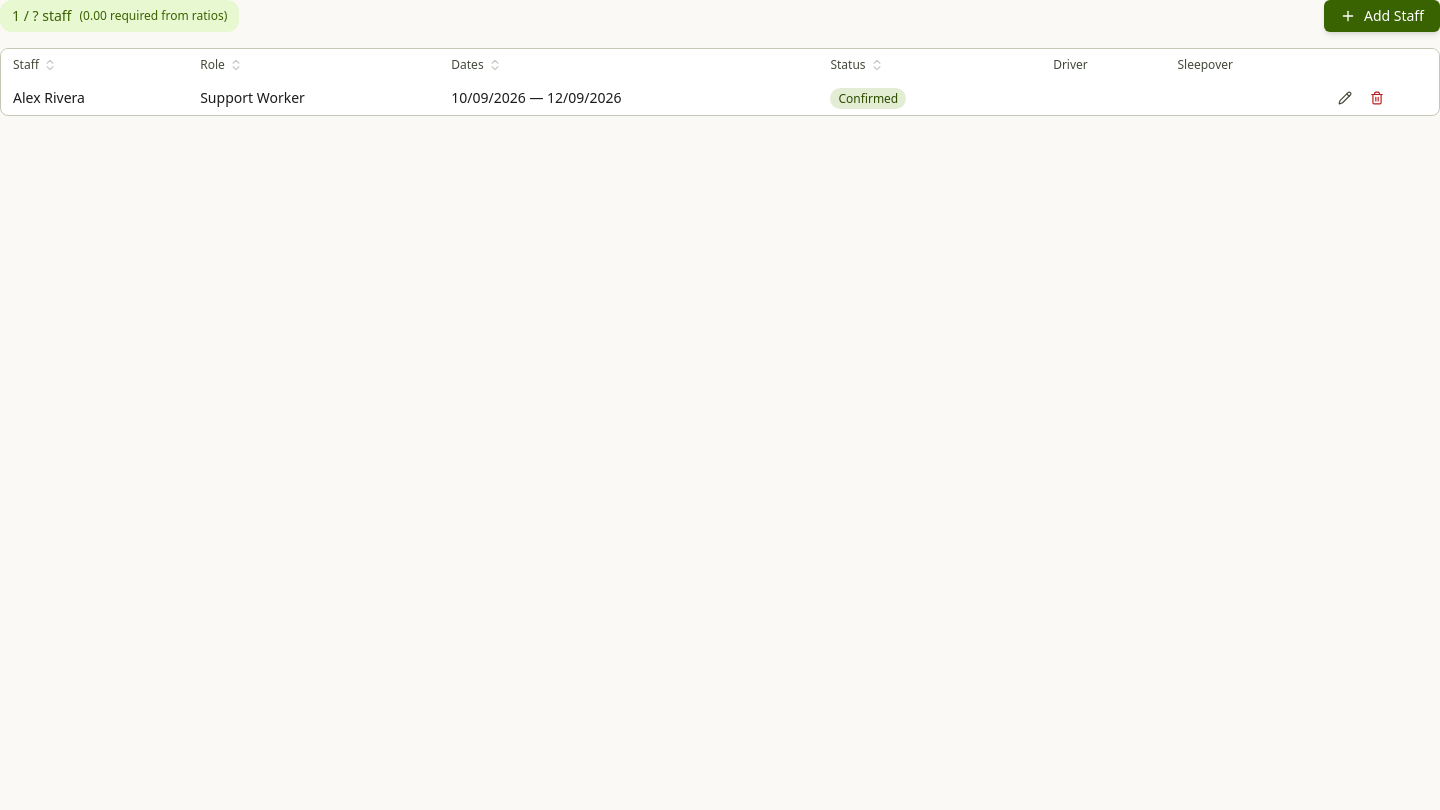
Scenario: StaffTab — edit modal live conflict gate (trip-side parity) › re-runs the dry-run check when Assignment Start/End are edited
Click the button titled "Edit assignment" at point(1345, 98), box [1333,86,1357,110]
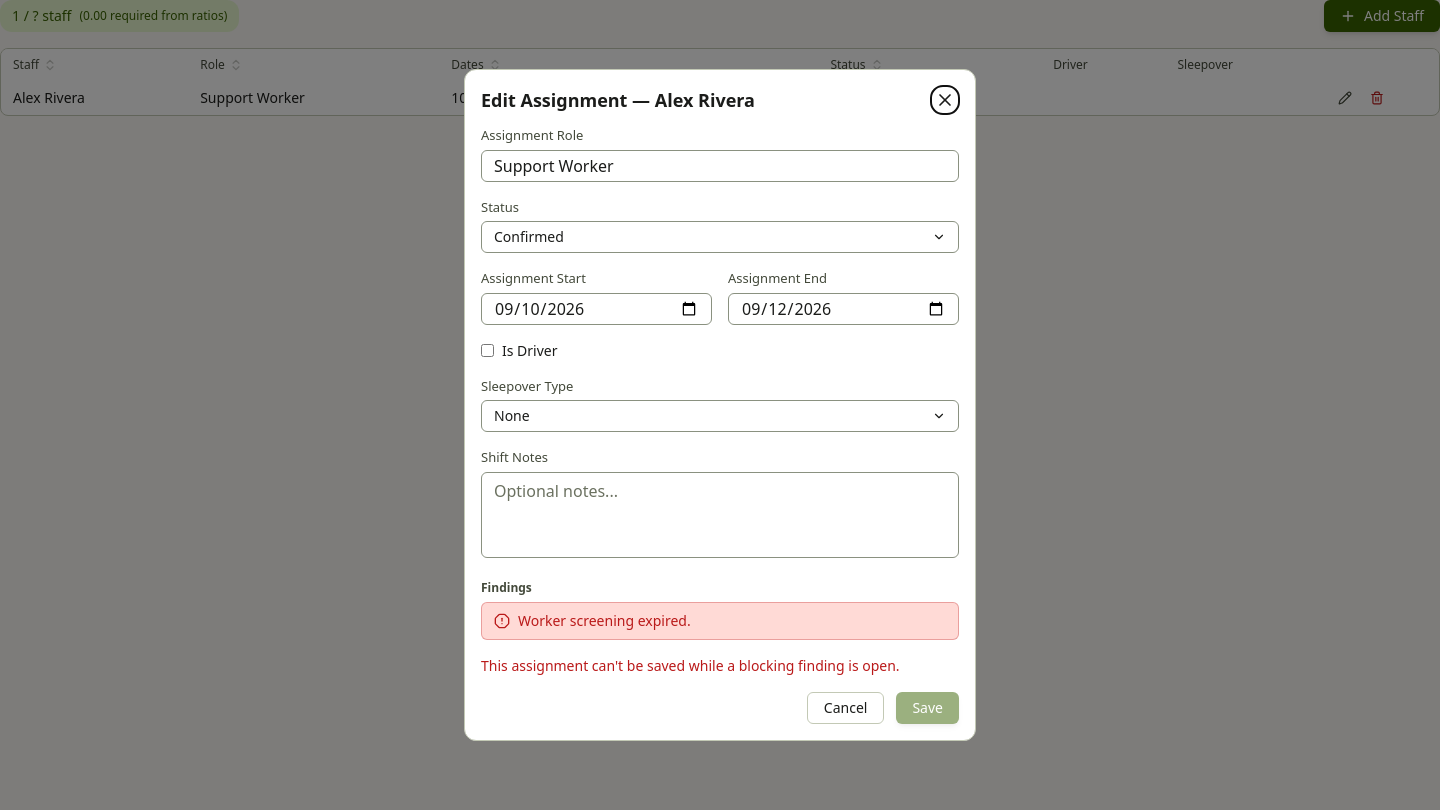
Now the text "Worker screening expired." is shown, box [518,611,691,631]
Now the button "Save" is disabled, box [896,692,959,724]
Type "2026-09-15" into the date field showing "2026-09-10" at point(596, 309), box [481,293,712,325]
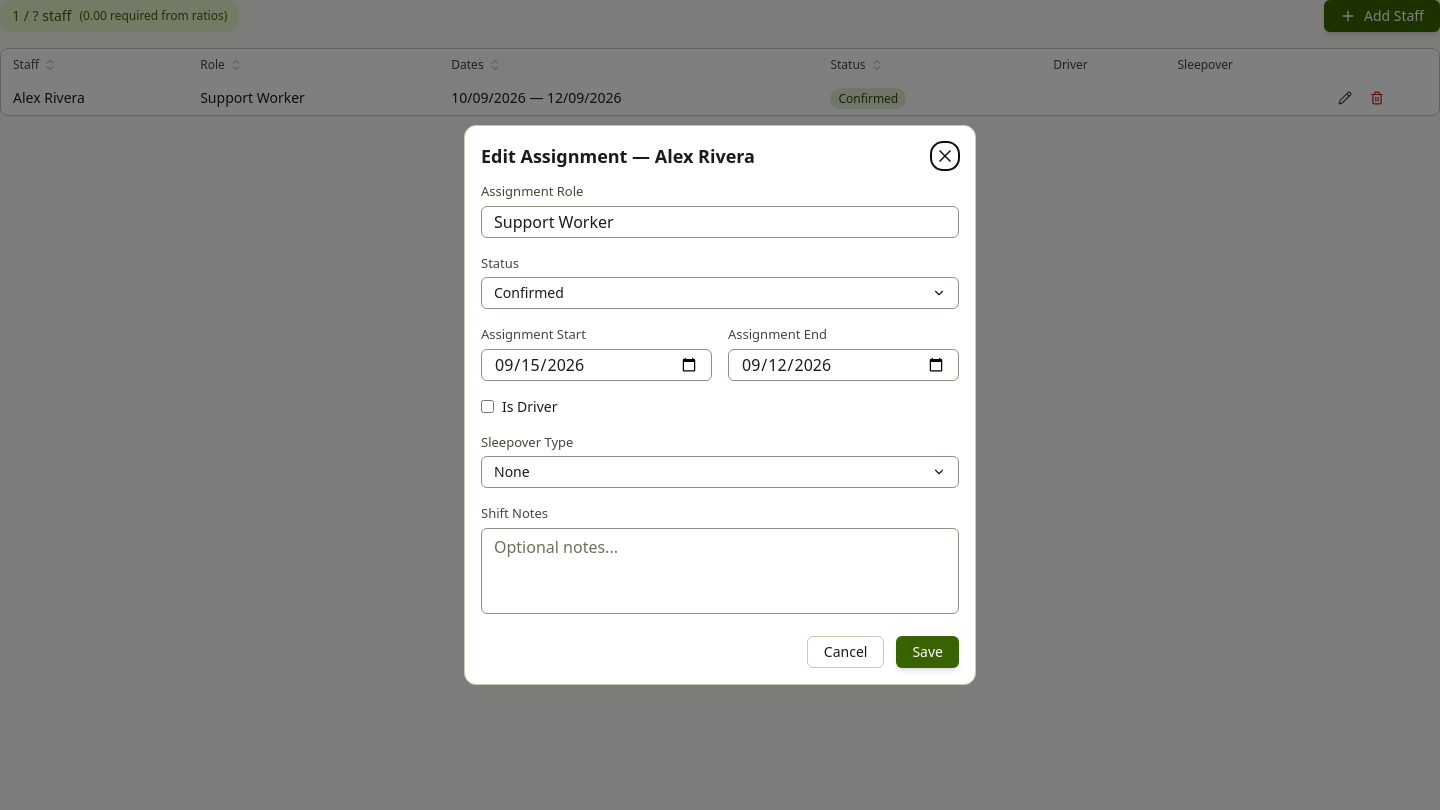
Now the button "Save" is enabled, box [896,636,959,668]
